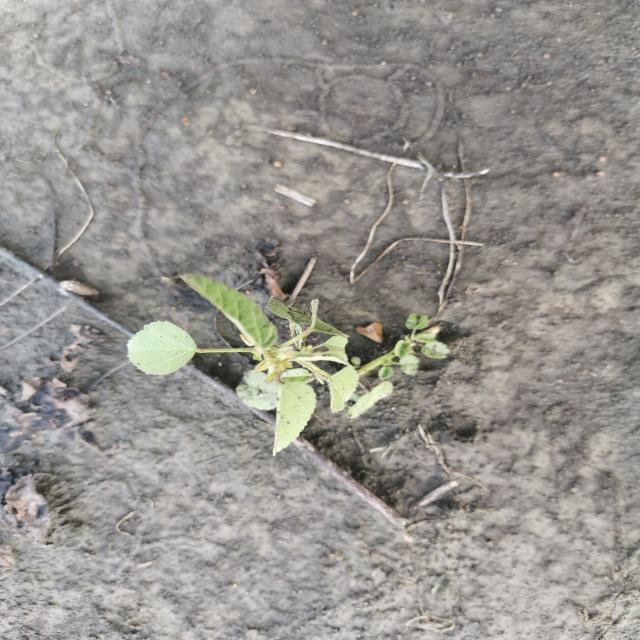PricklySida: (122, 270, 452, 460)
